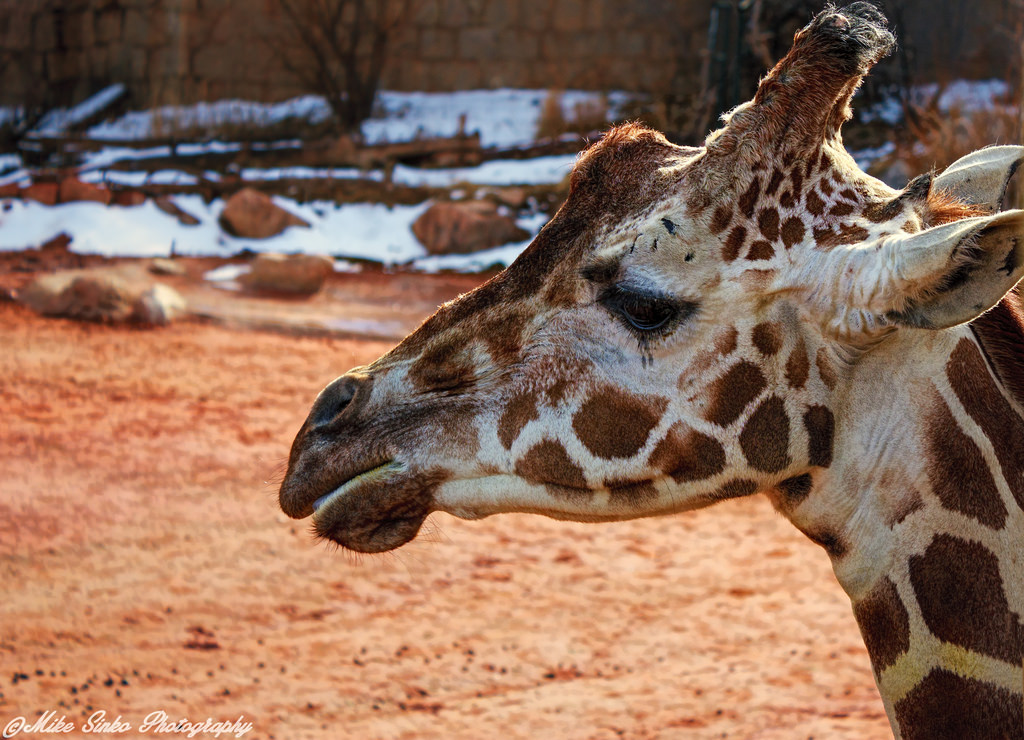giraffe: (249, 28, 988, 678)
